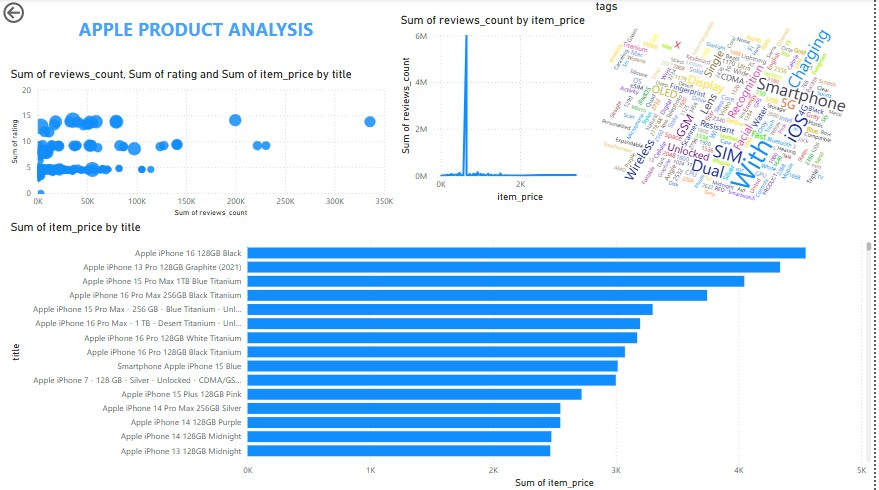

This screenshot's page, from the dashboard's own definition file:
{"tool":"powerbi","page":{"name":"Page 2","canvas":[1280,720],"ordinal":1},"visuals":[{"type":"scatterChart","fields":{"Category":["onlyappleproducts.title"],"X":["Sum(onlyappleproducts.reviews_count)"],"Y":["Sum(onlyappleproducts.rating)"],"Size":["Sum(onlyappleproducts.item_price)"]},"box":[10.2,99.5,570.7,223.9],"z":0},{"type":"actionButton","box":[0,0,100,40],"z":1000},{"type":"lineChart","fields":{"Category":["onlyappleproducts.item_price"],"Y":["Sum(onlyappleproducts.reviews_count)"]},"box":[581,20.5,311.7,281],"z":2000},{"type":"WordCloud1447959067750","fields":{"Category":["onlyappleproducts.tags"]},"box":[866.3,0,414.1,323.4],"z":3000},{"type":"clusteredBarChart","fields":{"Y":["Sum(onlyappleproducts.item_price)"],"Category":["onlyappleproducts.title"]},"box":[9.7,323.4,1270.2,396.6],"z":4000},{"type":"textbox","box":[109.8,20.5,409.8,64.4],"z":5000}]}

Visuals, with their boxes in screenshot pixels (x1, y1, x2, y2), scaled from the page's 1280x720 canvas onto the 879x490 screenshot:
scatterChart - onlyappleproducts.title x Sum(onlyappleproducts.reviews_count): pyautogui.locateOnScreen(7, 68, 399, 220)
actionButton: pyautogui.locateOnScreen(0, 0, 69, 27)
lineChart - onlyappleproducts.item_price x Sum(onlyappleproducts.reviews_count): pyautogui.locateOnScreen(399, 14, 613, 205)
WordCloud1447959067750 - onlyappleproducts.tags: pyautogui.locateOnScreen(595, 0, 878, 220)
clusteredBarChart - Sum(onlyappleproducts.item_price) x onlyappleproducts.title: pyautogui.locateOnScreen(7, 220, 878, 489)
textbox: pyautogui.locateOnScreen(75, 14, 357, 58)
